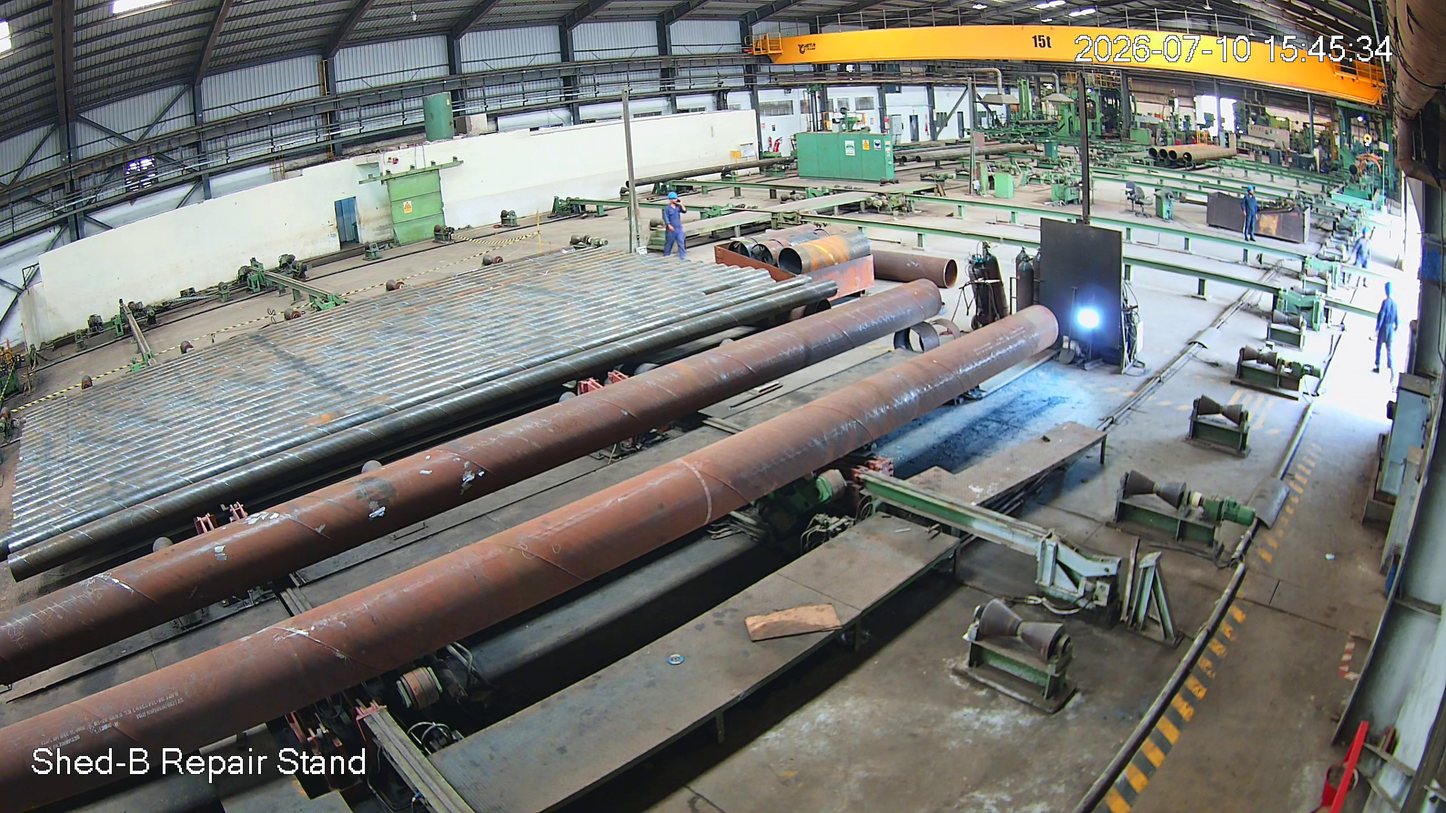Helmet: (1377, 279, 1397, 306), (664, 191, 684, 210)
Person: (1369, 283, 1405, 386), (658, 193, 688, 257)
